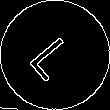L_NE: (26, 27, 84, 83)
